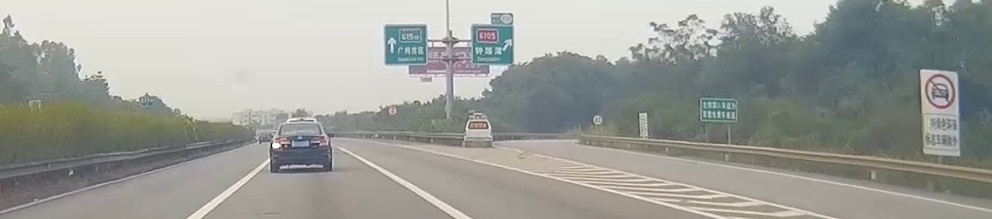L_light: (272, 138, 290, 148)
R_light: (311, 137, 329, 146)
T_light: (297, 124, 304, 127)
day-left: (269, 122, 332, 173)
